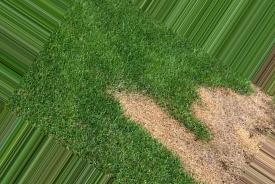patch: (126, 89, 188, 138), (201, 92, 263, 140), (185, 147, 224, 181)
